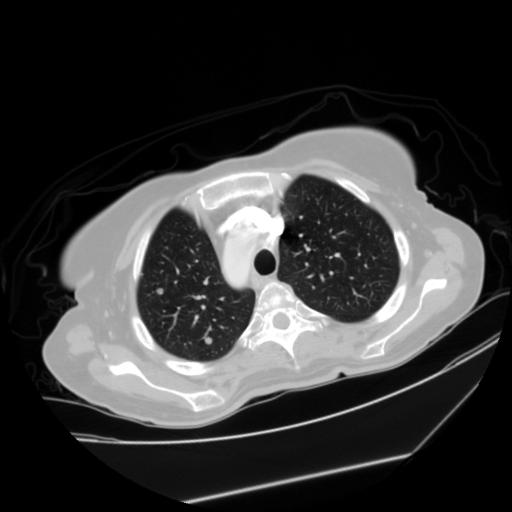nodule: (203, 333, 218, 348)
